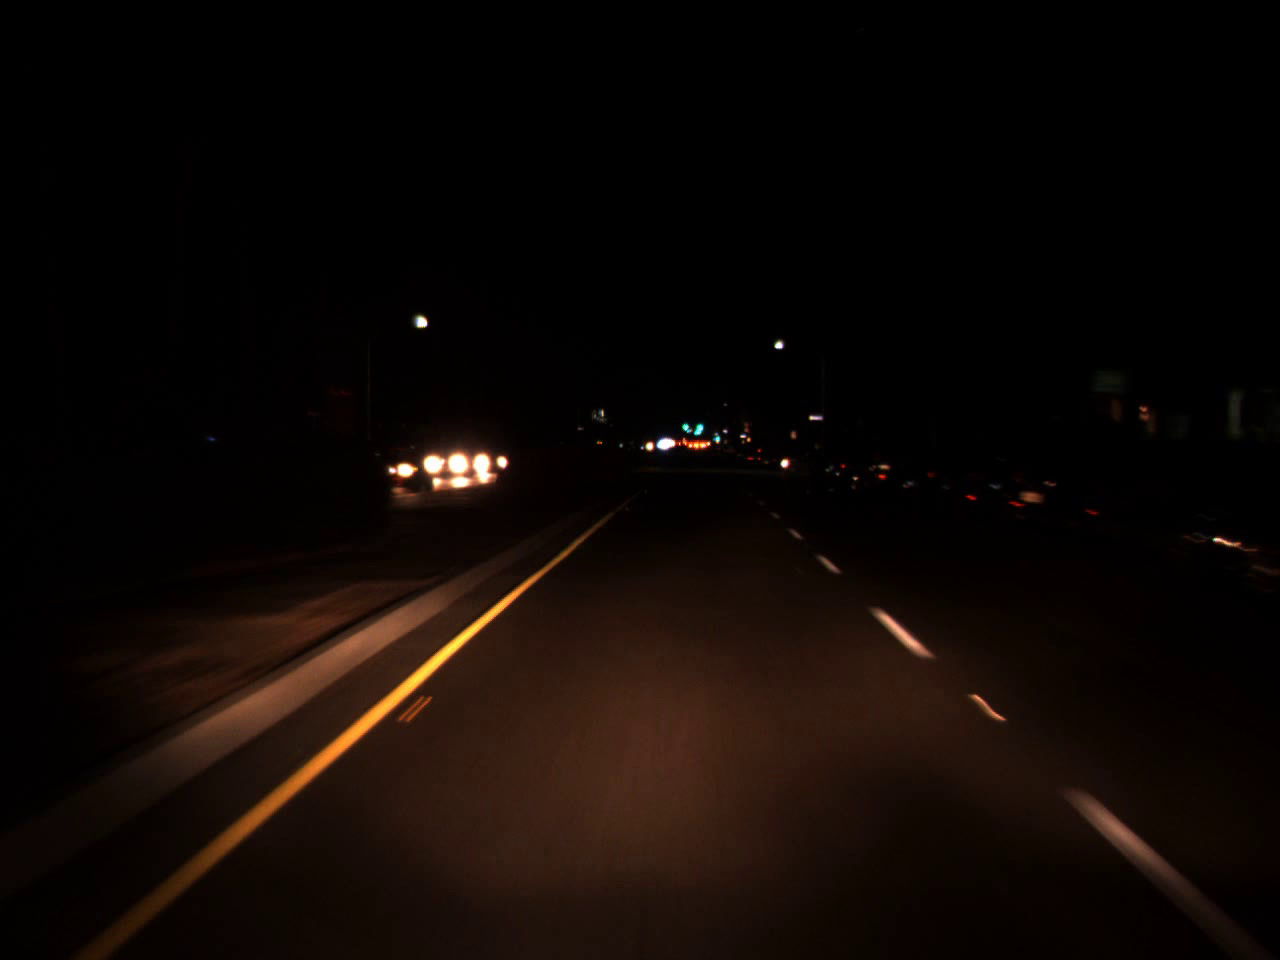go: (692, 410, 703, 437), (680, 413, 689, 434), (713, 430, 720, 442)
